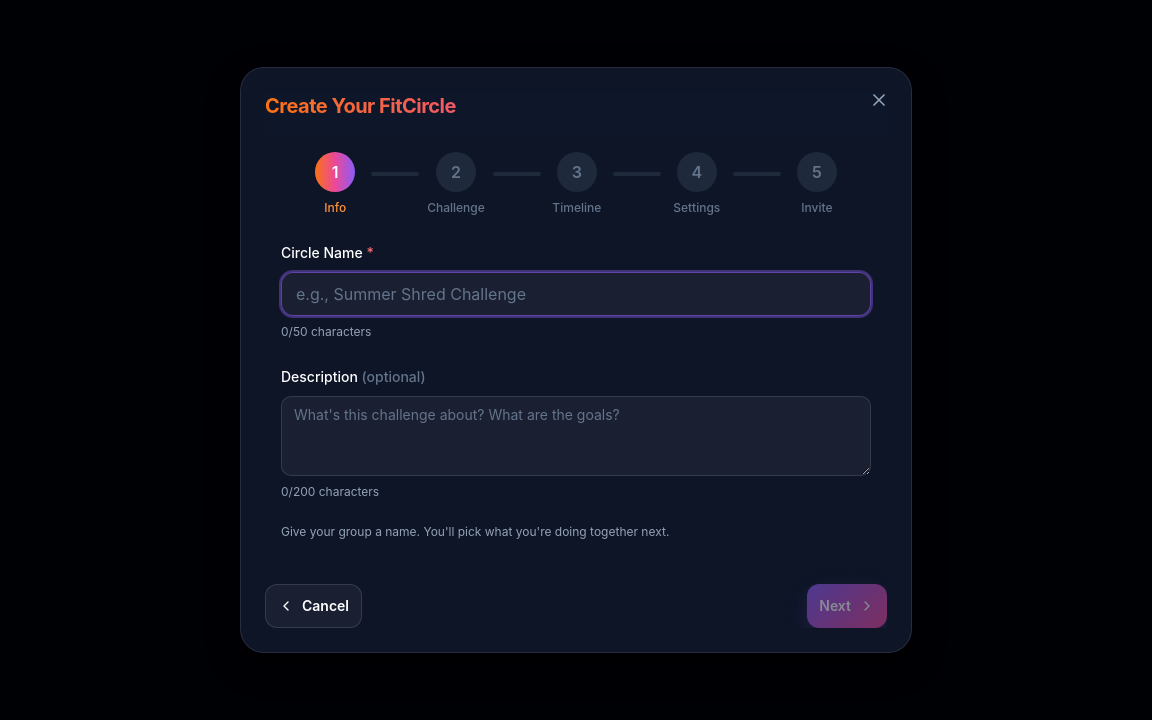
Test: CircleCreationWizard › Challenge Types › should render challenge mode options on step 2
The image size is (1152, 720).
Type "Test Circle" into the field labelled "Circle Name *" at point(576, 294), box x1=281 y1=272 x2=871 y2=316
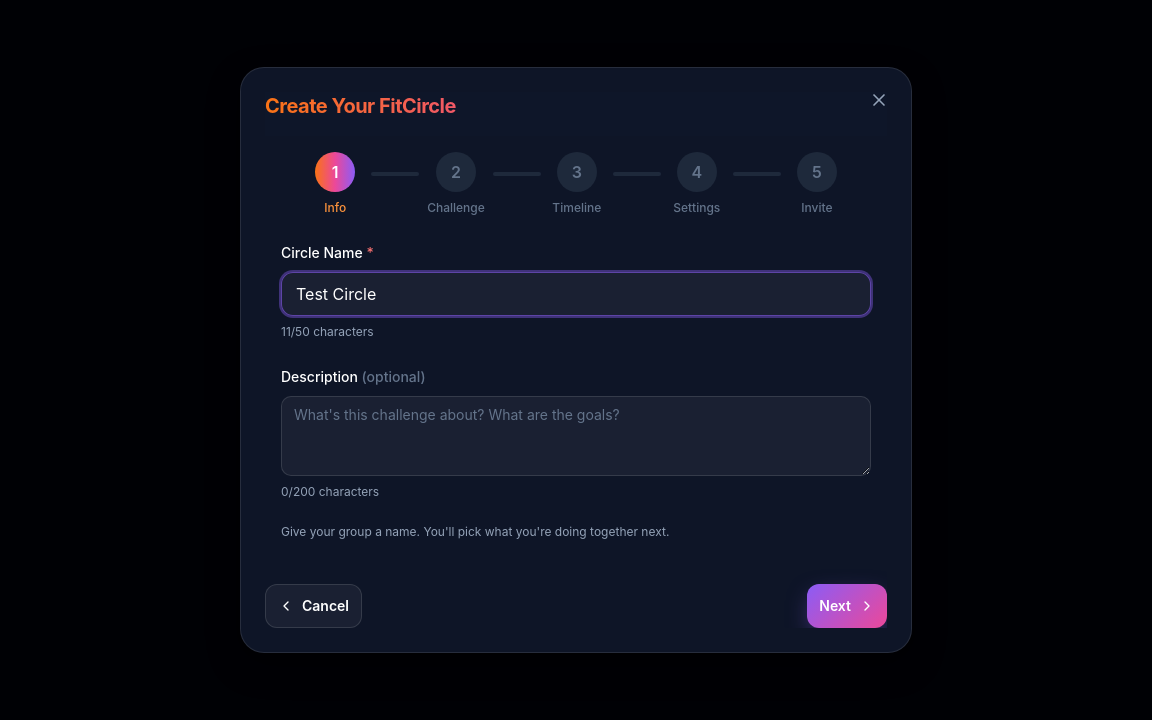
Now the button "Next" is enabled
Click the button "Next" at point(847, 606), box x1=807 y1=584 x2=887 y2=628
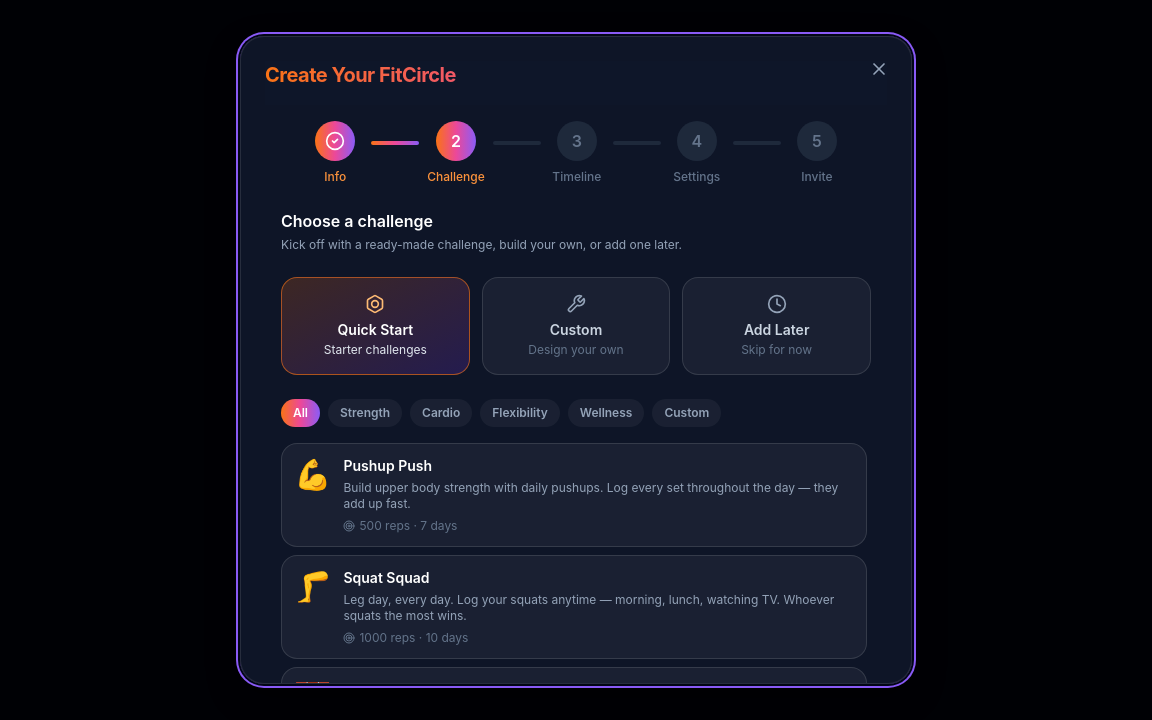
Now the text "Quick Start" is shown, box x1=338 y1=321 x2=413 y2=338
Now the text "Custom" is shown, box x1=550 y1=321 x2=602 y2=338
Now the text "Add Later" is shown, box x1=744 y1=321 x2=810 y2=338
